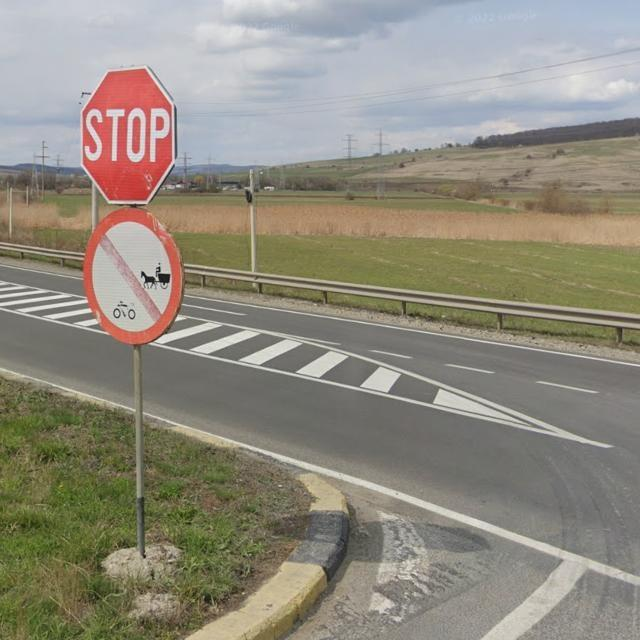prio_stop: (79, 66, 179, 205)
